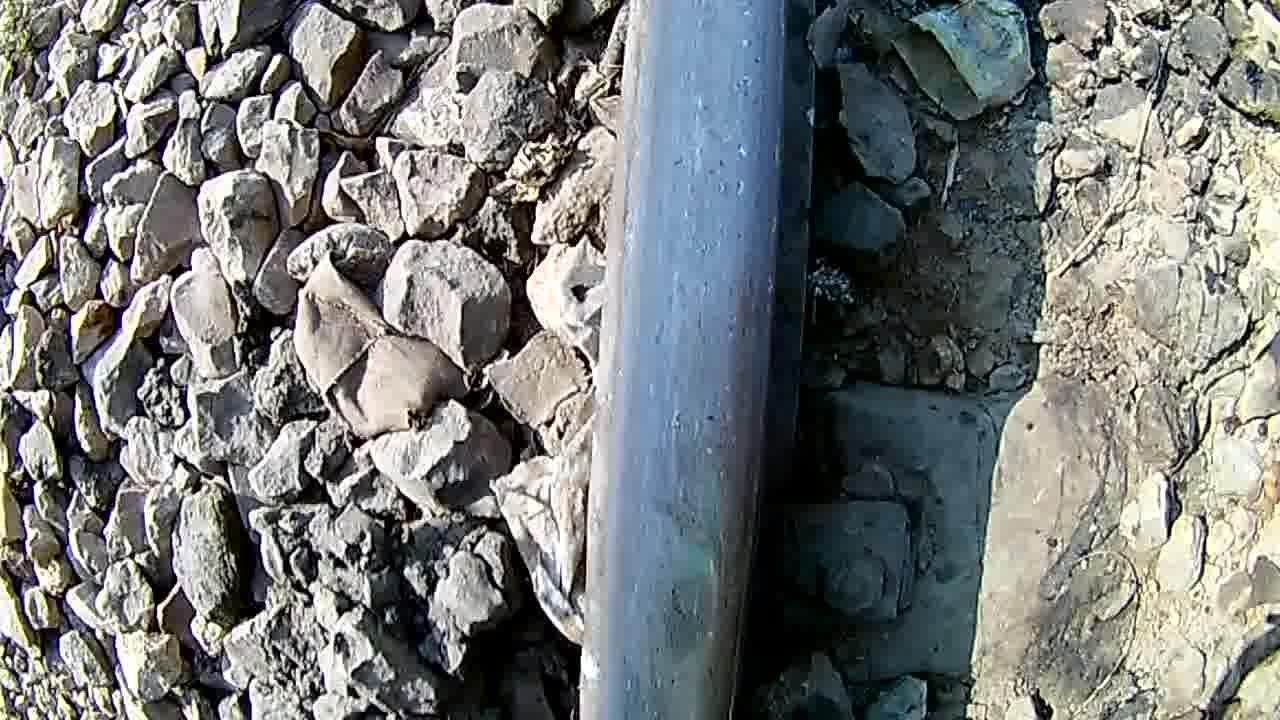bolt_missing: (600, 479, 764, 720)
